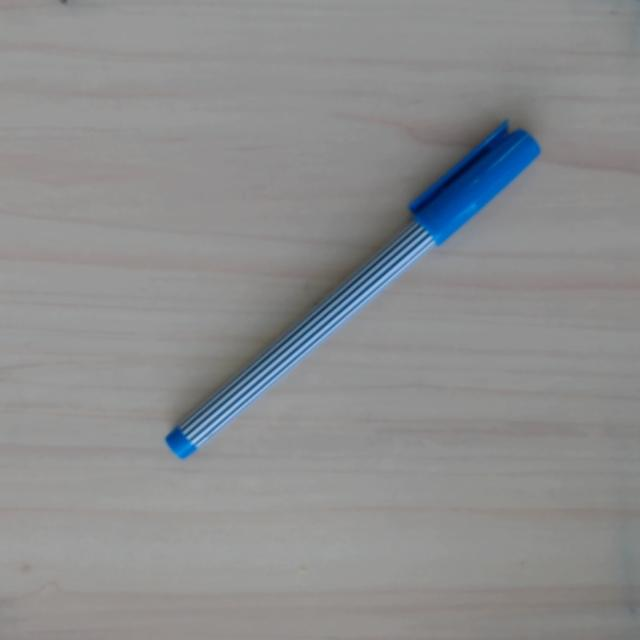Pulpen-Garis-Biru: (154, 113, 546, 468)
